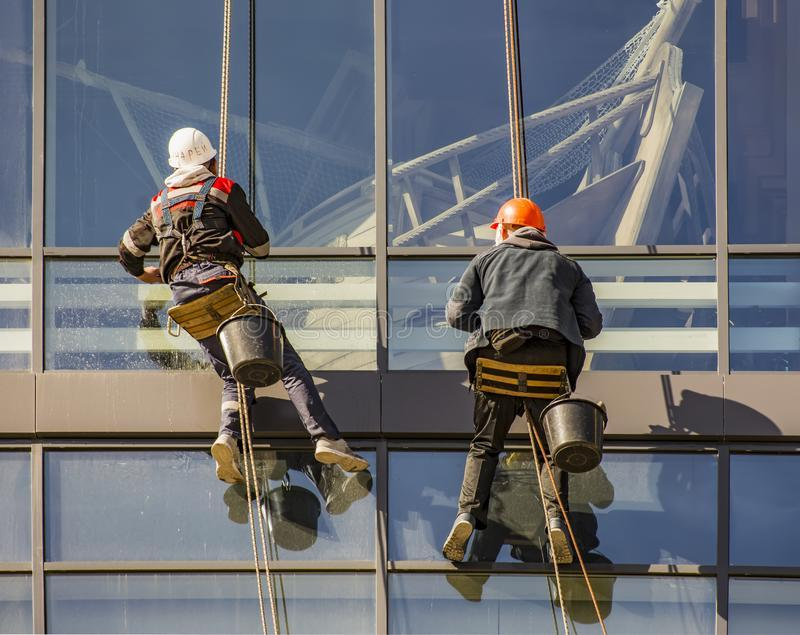helmet: (490, 197, 550, 237), (167, 128, 218, 172)
